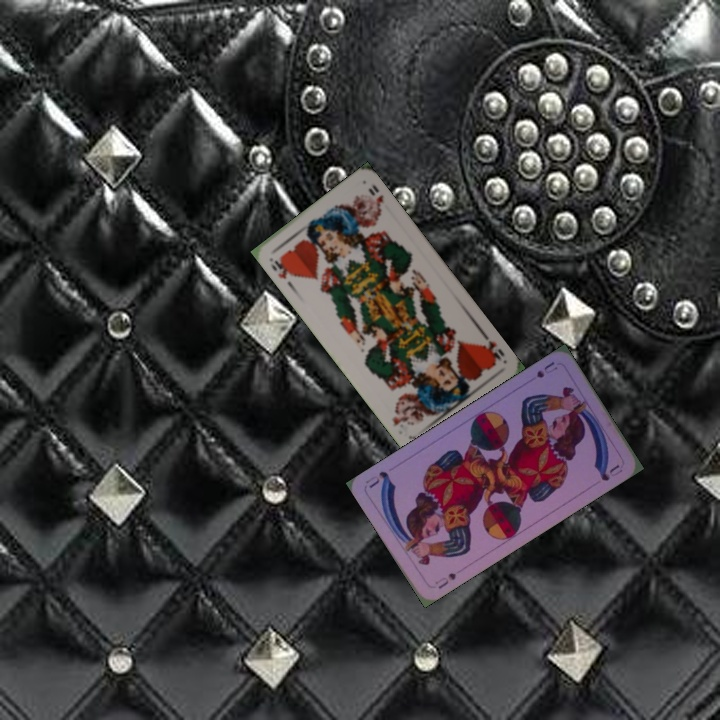HO: (479, 329, 508, 367), (266, 254, 298, 282)
SU: (532, 357, 560, 380), (431, 569, 459, 591)
